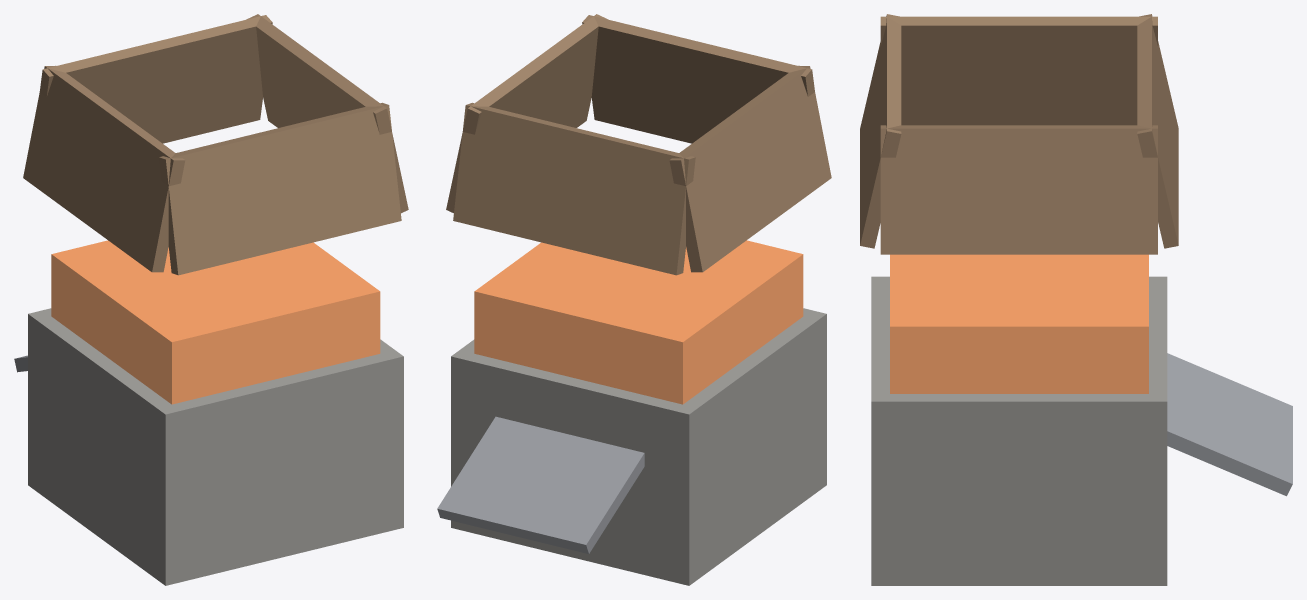
The model's file is build_chipper.glb.
3 views of the same model, side by side, from view 1: azimuth 30°, elevation 25°; view 2: azimuth 150°, elevation 25°; view 3: azimuth 270°, elevation 25° (orthographic). The views are drawn at different scales.
Parts seen in each view (by area): view 1: Baked; view 2: Baked; view 3: Baked.
Part boxes in pixels (<box>): Baked: <box>14,14,408,585</box>; Baked: <box>437,14,831,585</box>; Baked: <box>860,14,1292,585</box>.
Size of the model in its own units: 0.8619 by 1.35 by 1.17.
